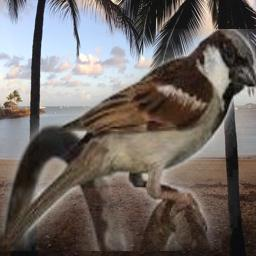Sparrow: (0, 29, 256, 251)
